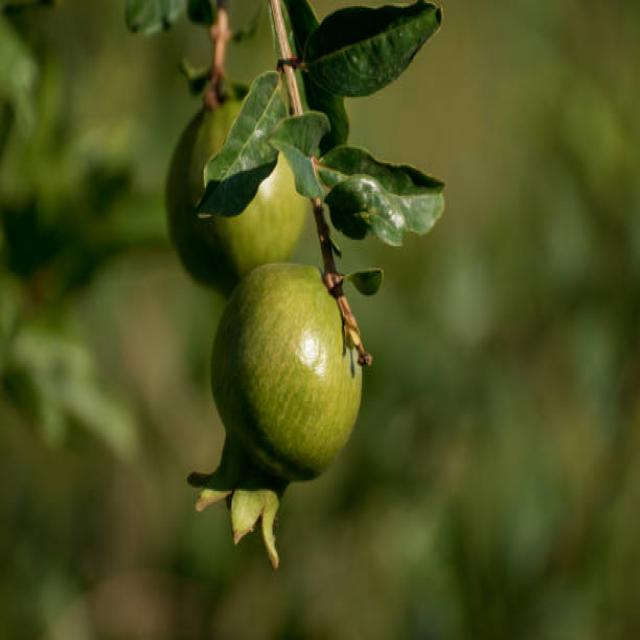Unripe: (186, 259, 364, 568)
